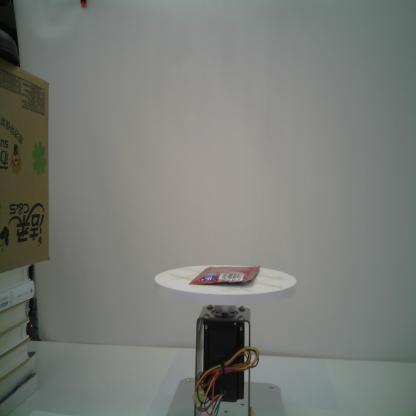Seasoner: (188, 265, 263, 287)
